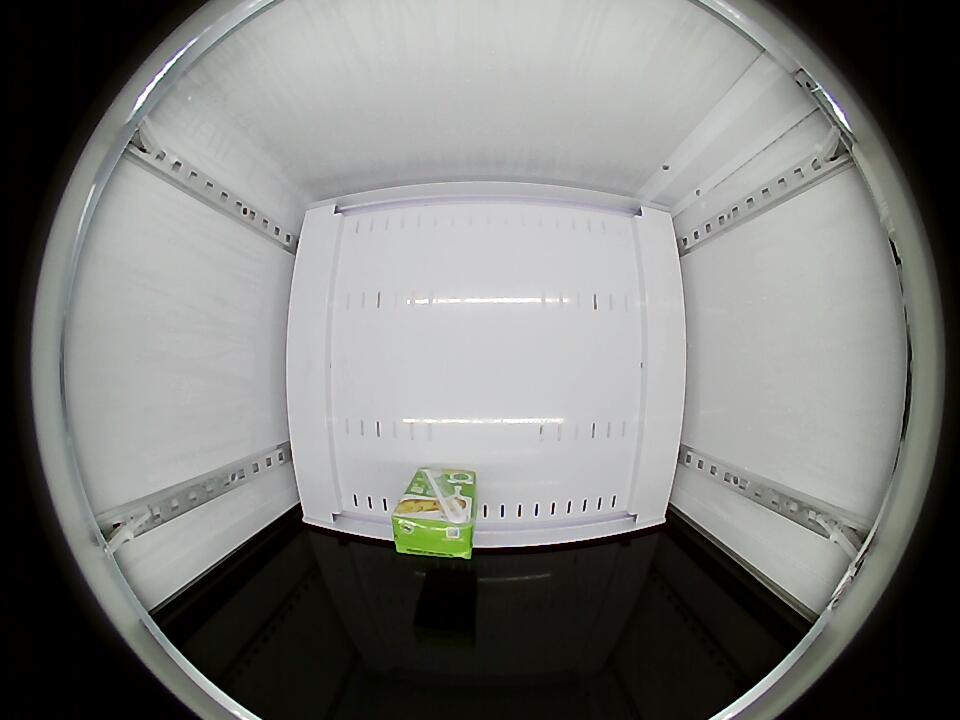mengniuzaocan: (392, 504, 474, 558)
